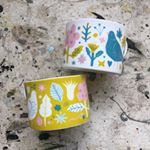cups: (21, 71, 97, 134), (62, 16, 129, 77)
